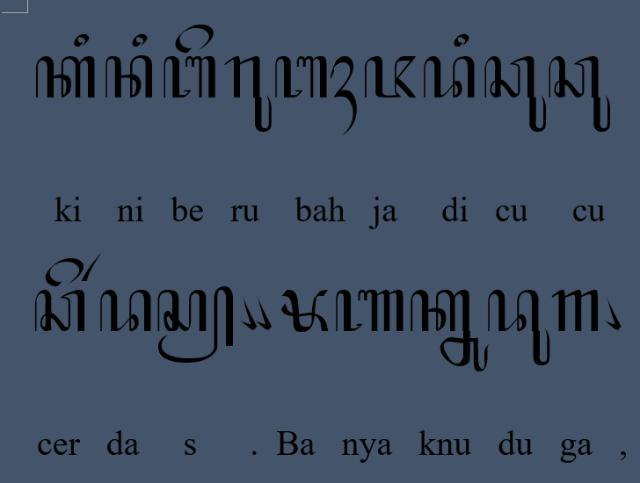-s: (156, 286, 234, 364)
B: (281, 288, 331, 334)
_h1: (328, 55, 358, 135)
_r1: (81, 252, 102, 284)
b: (162, 54, 218, 100), (273, 54, 329, 100)
c: (34, 289, 88, 335)
cu: (484, 52, 548, 134), (548, 53, 612, 134)
d: (422, 54, 478, 100), (98, 288, 154, 334)
du: (488, 287, 552, 366)
e: (174, 22, 214, 54), (45, 256, 85, 288)
g: (552, 287, 600, 333), (604, 298, 622, 333)
i: (130, 32, 148, 48), (454, 32, 471, 48), (74, 33, 90, 49)
j: (363, 55, 417, 102)
k: (35, 54, 97, 100)
knu: (410, 288, 490, 374)
kom: (254, 294, 272, 332), (239, 295, 257, 332)
n: (106, 54, 154, 100)
ny1: (334, 290, 406, 334)
ru: (224, 55, 274, 133)
